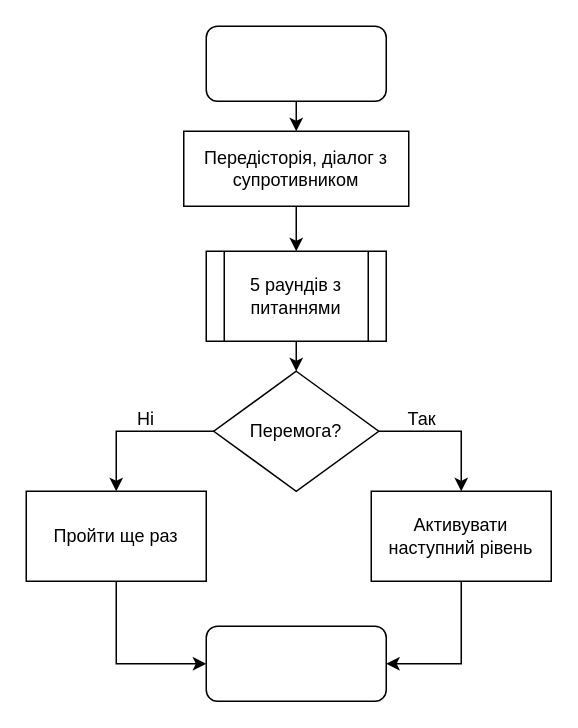
This 578x728 diagram has some shape labels left out. Here are the shapes that lost their labels. From the top down, the box of each, then its label:
(205, 25, 386, 101): Початок рівня
(205, 625, 386, 701): Кінець рівня
